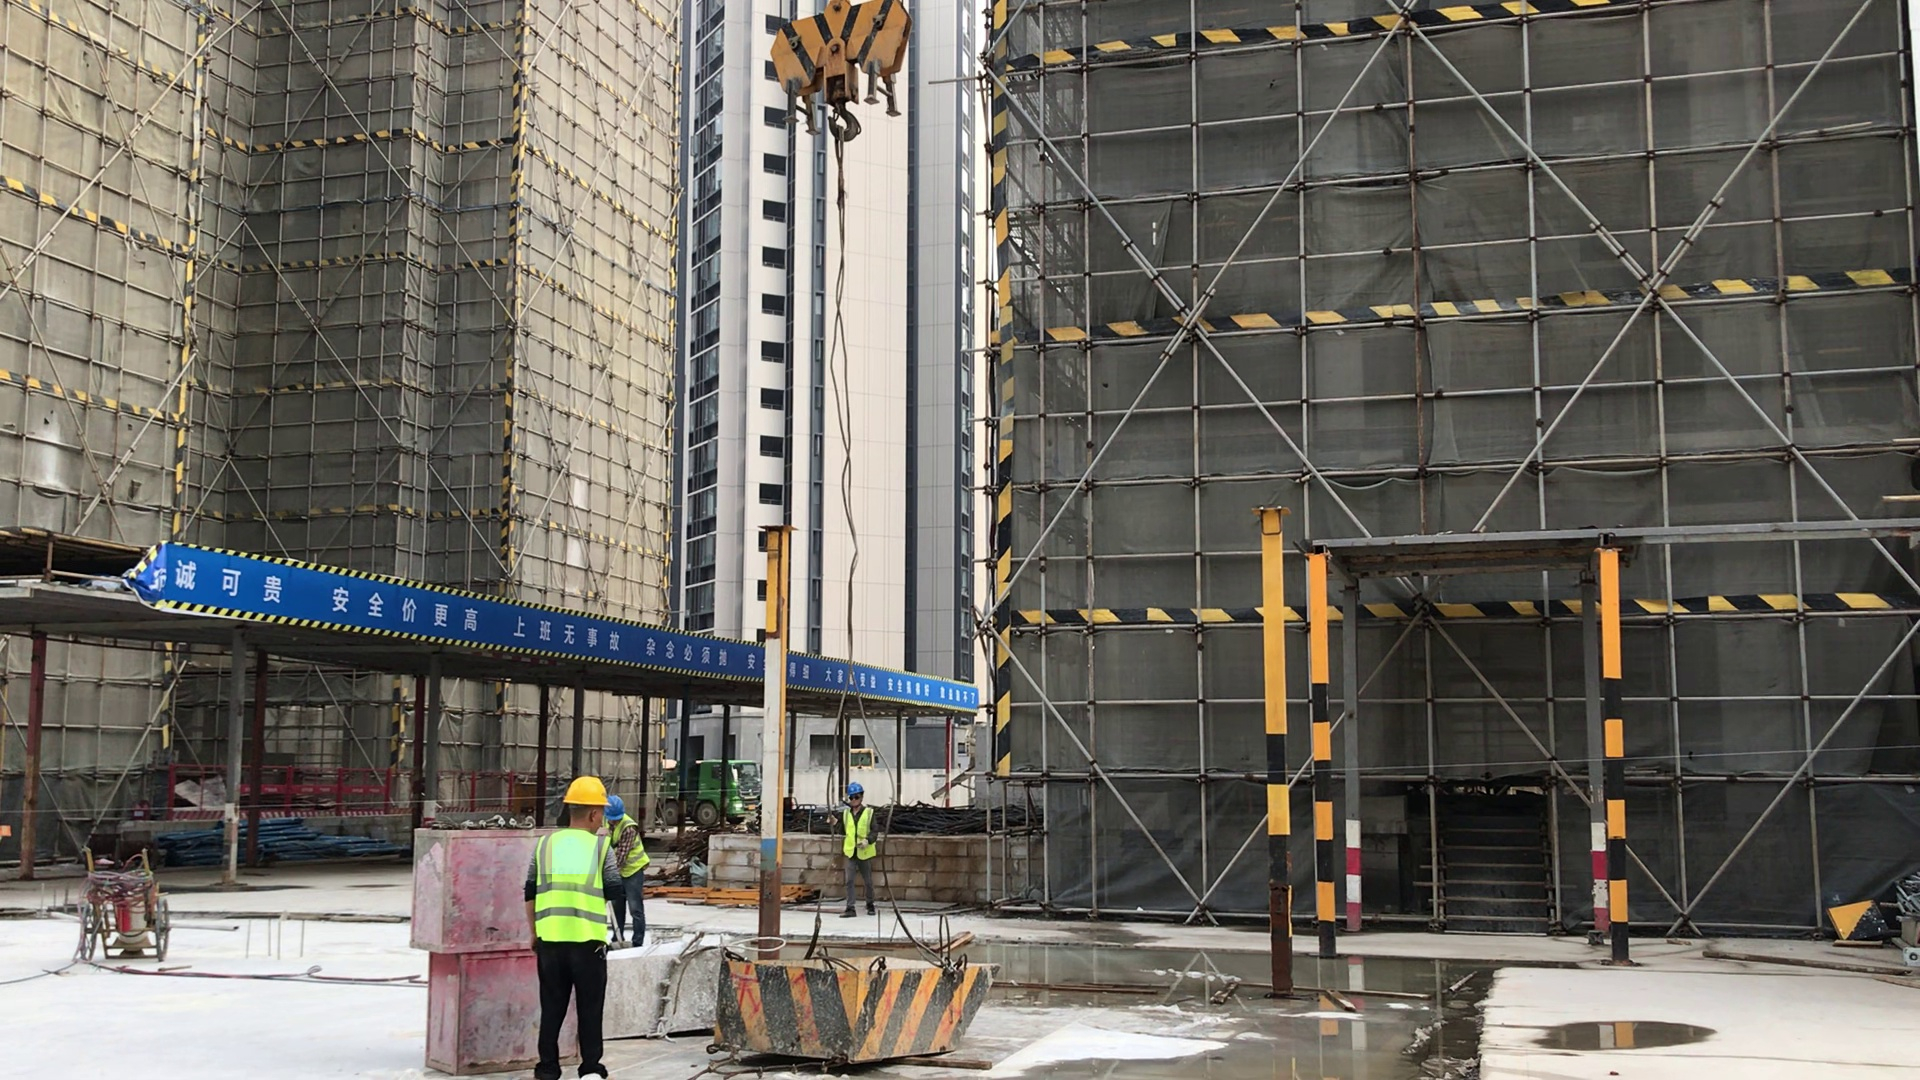fence: (174, 758, 536, 810)
handcart: (78, 846, 175, 965)
helmet: (562, 775, 608, 807), (604, 794, 625, 820), (846, 782, 863, 795)
hook: (770, 3, 915, 142)
hopper: (716, 957, 997, 1062), (606, 945, 740, 1039)
person: (525, 775, 622, 1080), (602, 794, 648, 950), (839, 782, 879, 920)
slogan: (150, 541, 978, 718)
vest: (536, 830, 609, 944), (608, 816, 649, 877), (842, 808, 875, 861)
